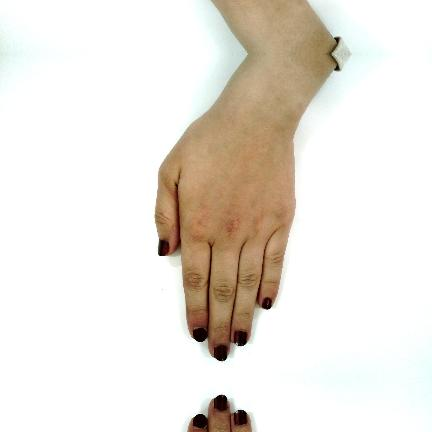Nail: (214, 345, 228, 362), (214, 394, 228, 411), (234, 331, 248, 347), (234, 409, 248, 425), (193, 328, 208, 342), (193, 414, 208, 428), (158, 239, 169, 256), (262, 298, 272, 310)
